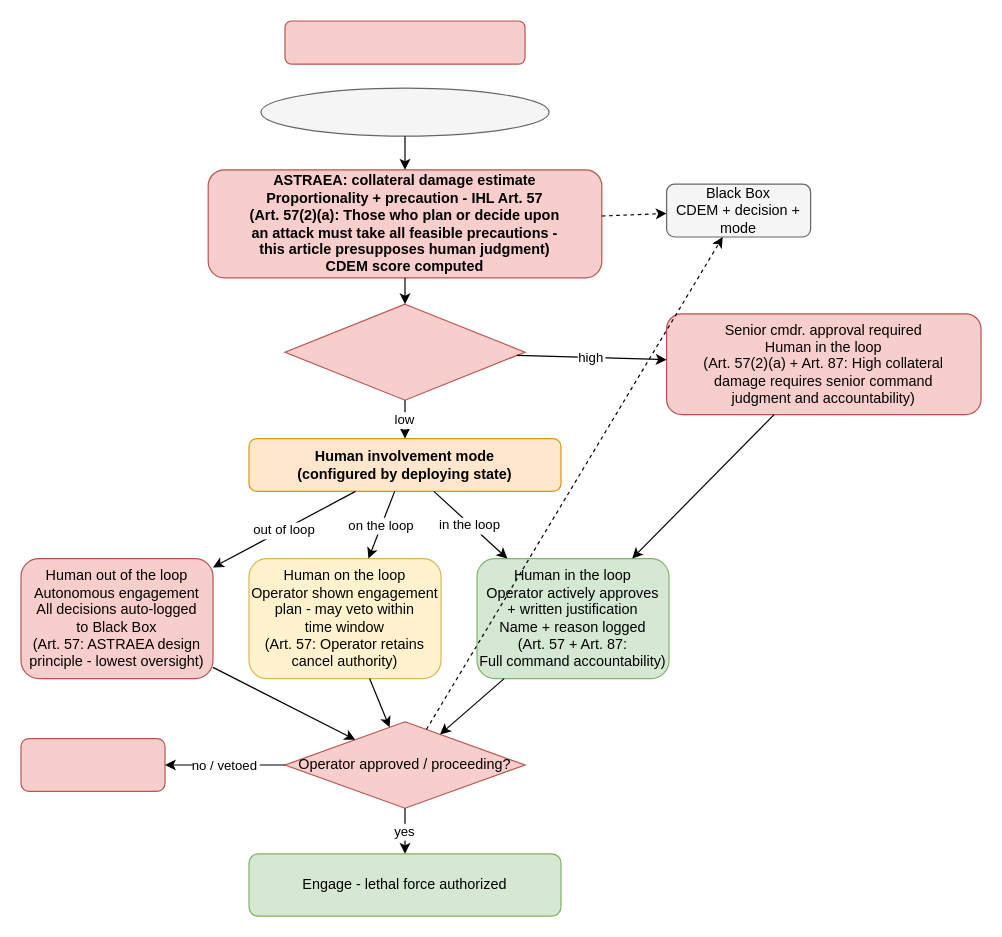
This 1002x937 diagram has some shape labels left out. The shapes that lost their labels are listed below. From the top down, each one's box as (x1, y1, x2, y2) in pixels, then its label:
(284, 20, 525, 64): Stage 4 - Engage
(260, 87, 549, 136): Approved target from Target stage
(284, 303, 525, 400): CDEM score? (Art. 57: Higher harm = higher auth. required)
(20, 737, 165, 791): Engagement aborted
